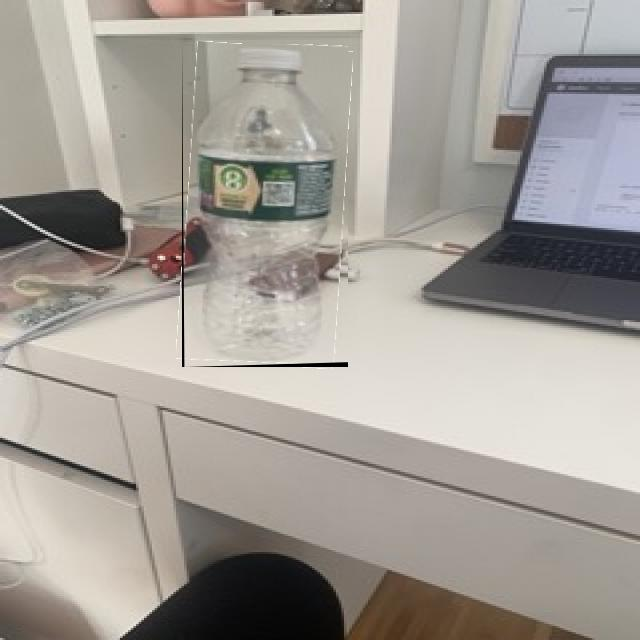water_bottle: (182, 44, 348, 367)
